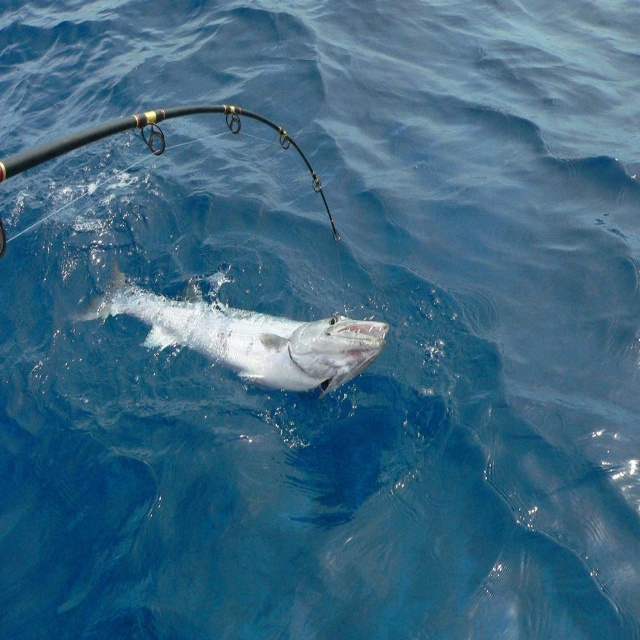Shark: (70, 261, 389, 399)
